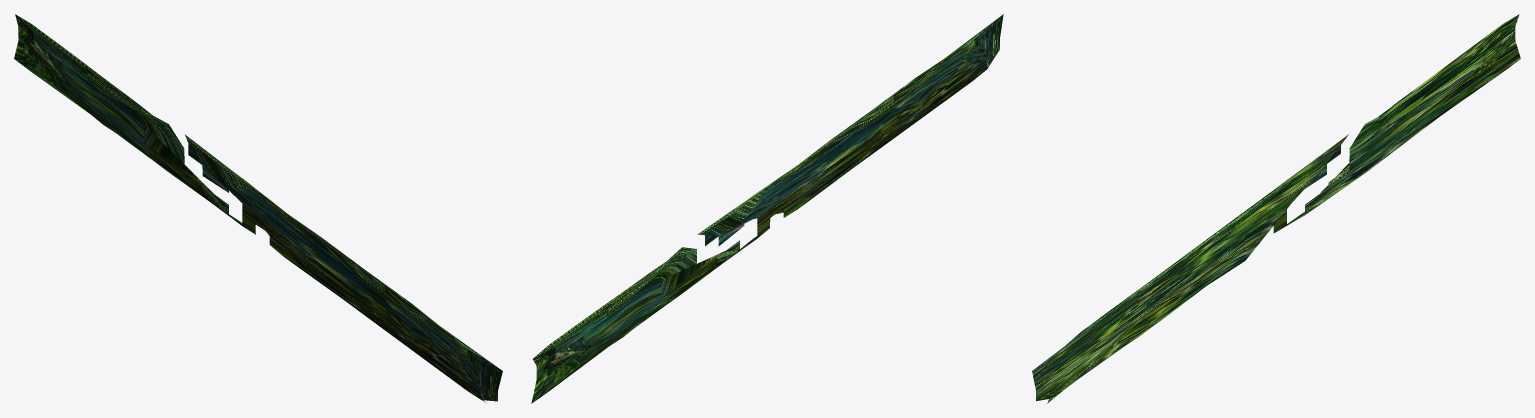
3 renders of one model, left to right at view 1: azimuth 30°, elevation 25°; view 2: azimuth 150°, elevation 25°; view 3: azimuth 330°, elevation 25°, orthographic. The views are drawn at different scales.
Parts seen in each view (by area): view 1: algae_cube_Cube; view 2: algae_cube_Cube; view 3: algae_cube_Cube.
Part boxes in pixels (x1,y1,x2,y2): algae_cube_Cube: (14, 14, 502, 402); algae_cube_Cube: (531, 14, 1003, 403); algae_cube_Cube: (1032, 14, 1520, 403).
Bounding box in the file's own units: 0.0102 × 0.1739 × 3.05.
